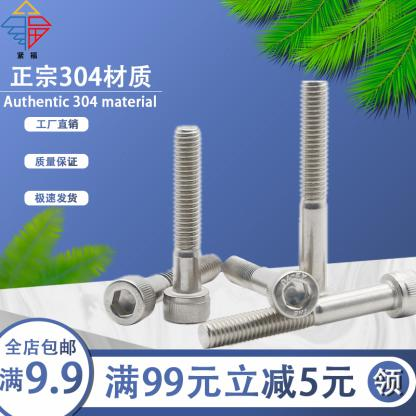FOD: (197, 266, 416, 352), (290, 76, 337, 320), (162, 121, 212, 325), (100, 250, 223, 329), (222, 252, 321, 322)
